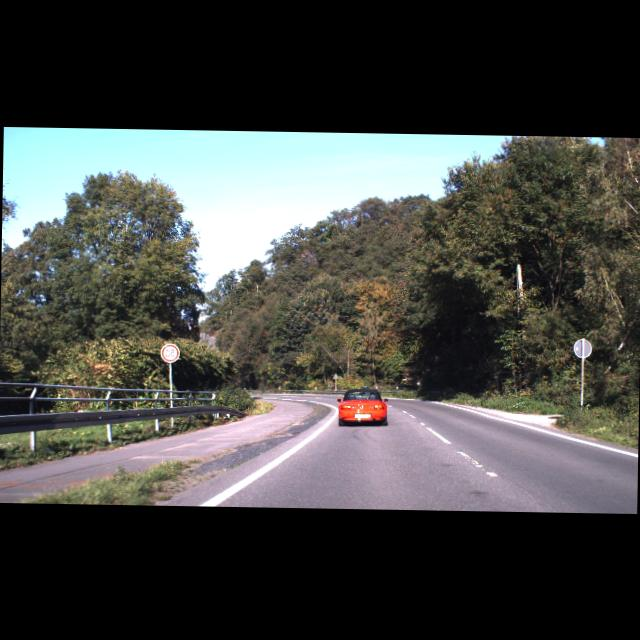prohibitory: (161, 343, 180, 362)
